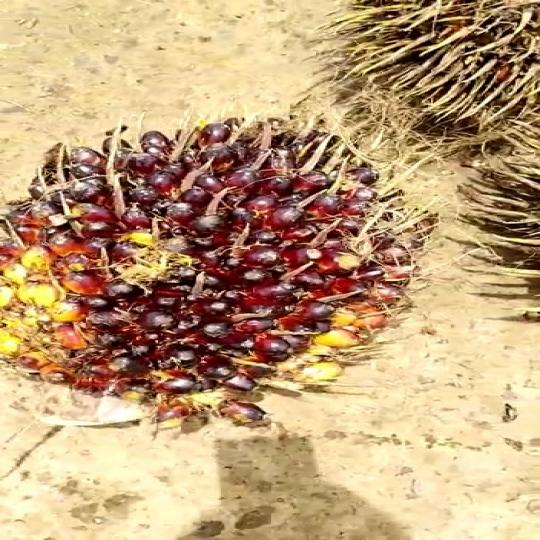mentah: (10, 102, 422, 422)
